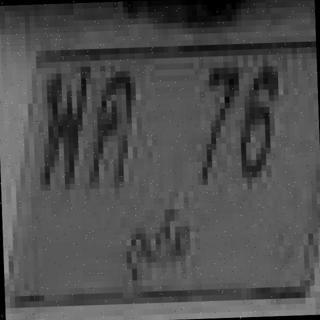A04: (86, 49, 152, 196)
A31: (30, 53, 94, 210)
N06: (236, 50, 290, 201)
N07: (190, 51, 244, 198), (33, 55, 36, 65)
P48: (90, 200, 238, 302)
